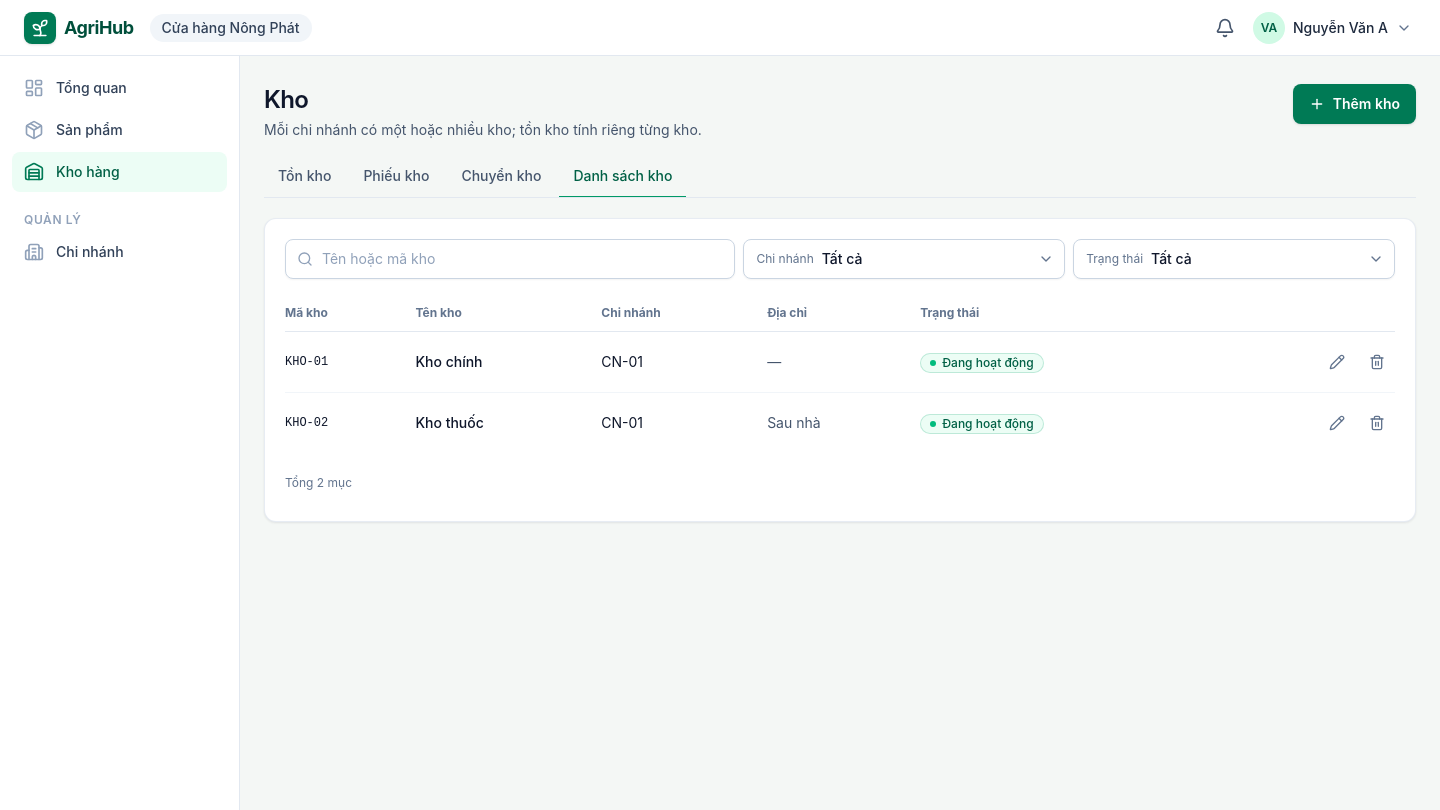
Scenario: danh sách kho › kho đã có phiếu thì không xóa được: báo lý do
Step 1. Click the button named "Xóa Kho chính" → (1377, 362), box [1359,344,1395,380]
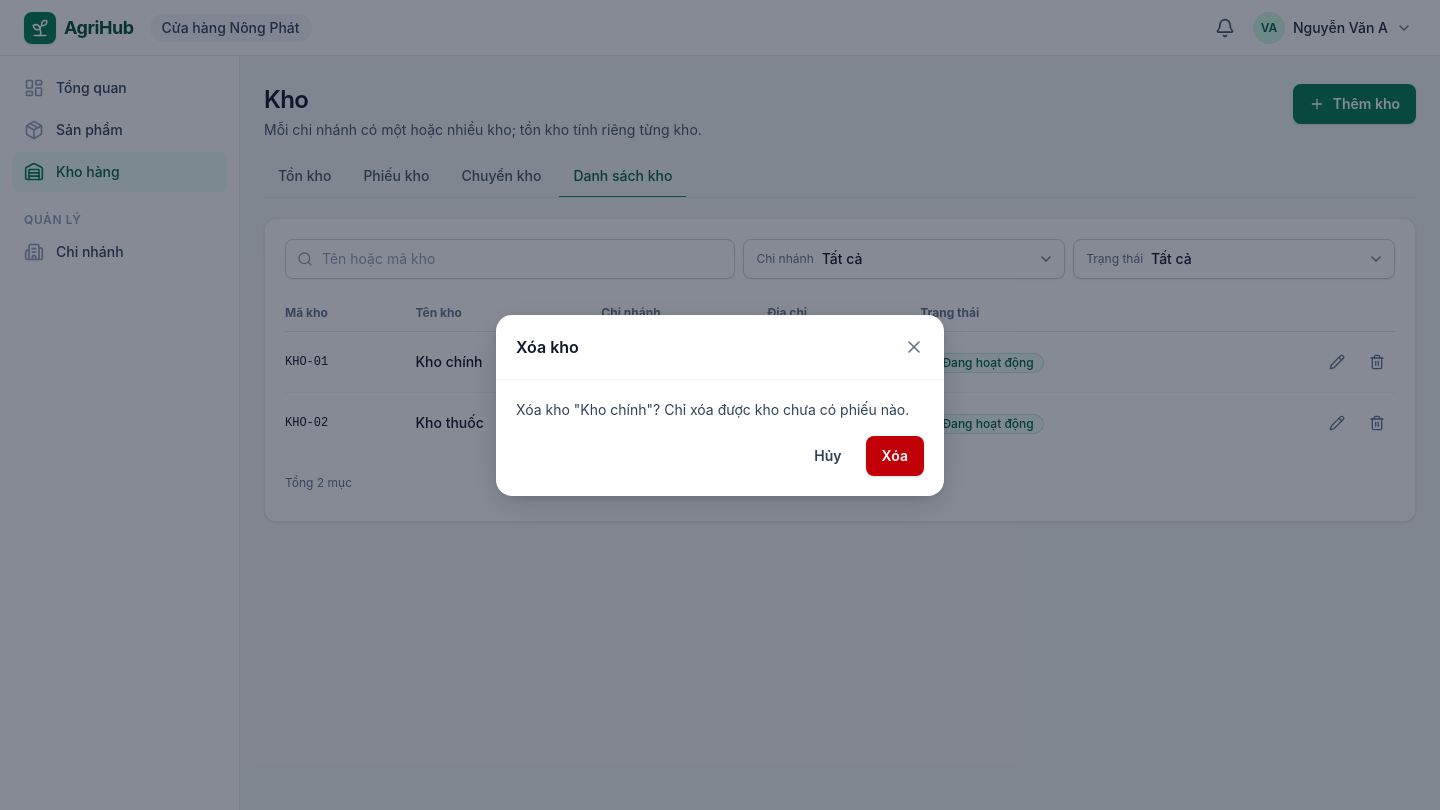
Step 2. Click the button "Xóa" → (895, 456), box [866,436,924,476]
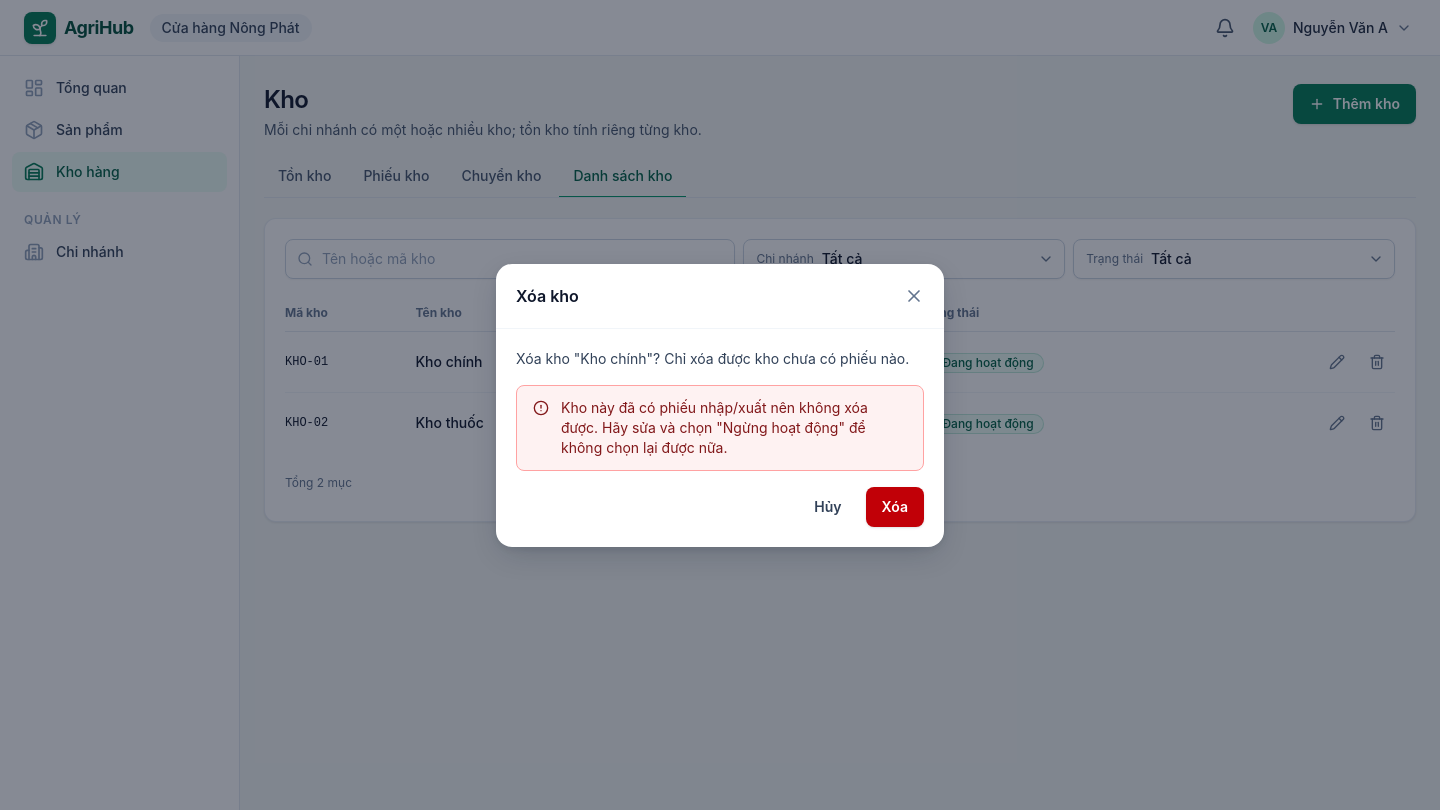
expect the text "đã có phiếu nhập/xuất nên không xóa được" is shown: met, box [561,398,868,456]
